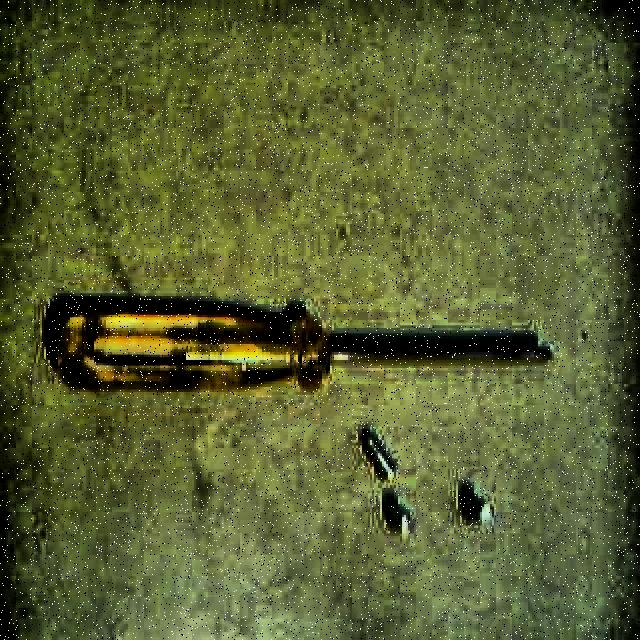screwdriver: (56, 304, 554, 392)
